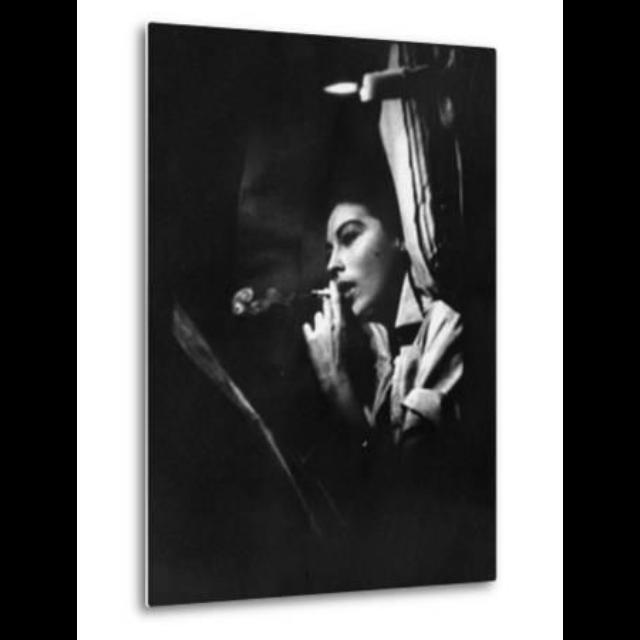rokok: (315, 286, 341, 300)
